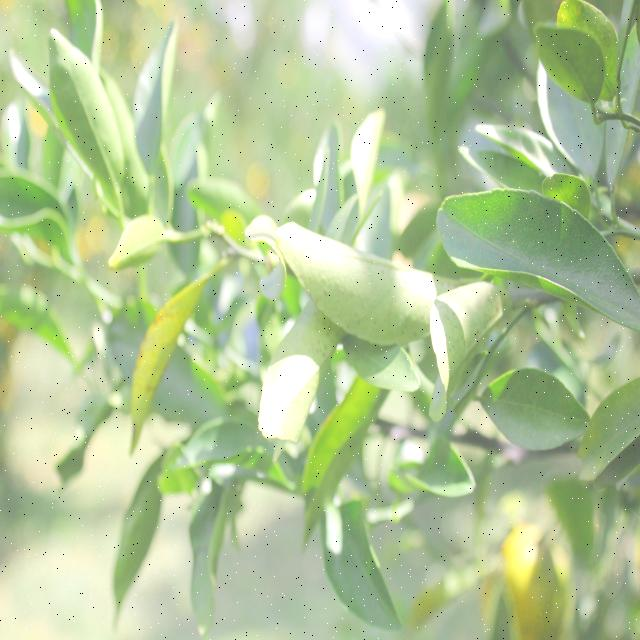melanose: (292, 217, 447, 348), (110, 282, 193, 448), (428, 292, 502, 385)
